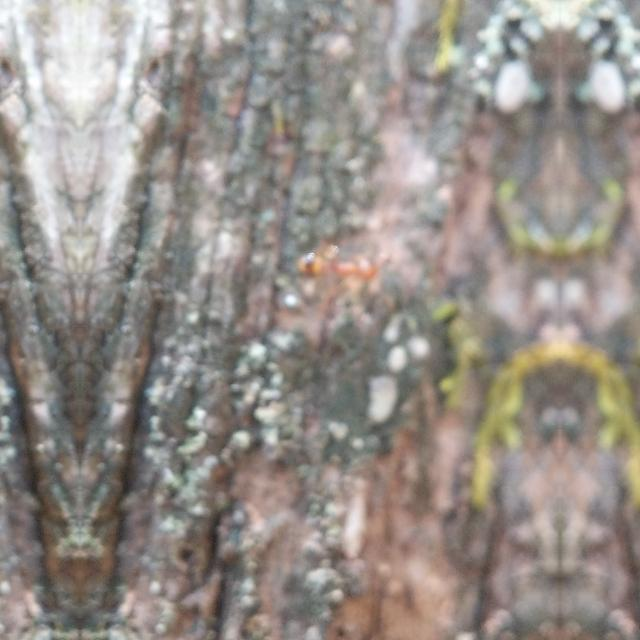Temnothorax: (292, 225, 386, 293)
